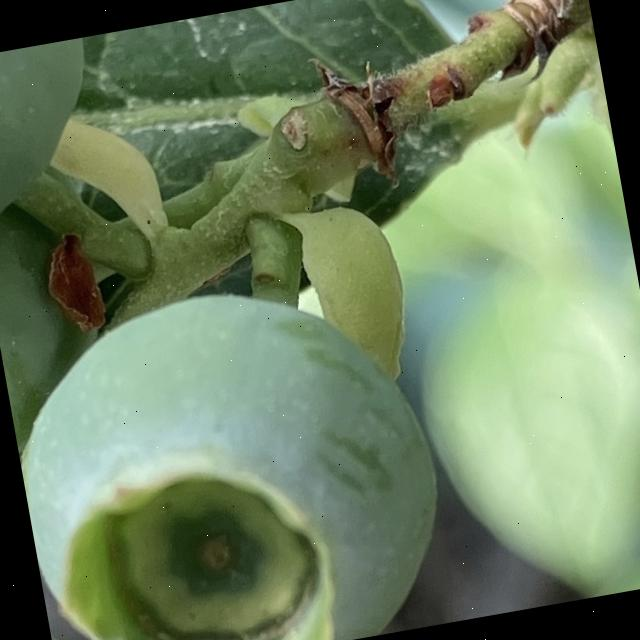Blueberries: (0, 255, 462, 640)
